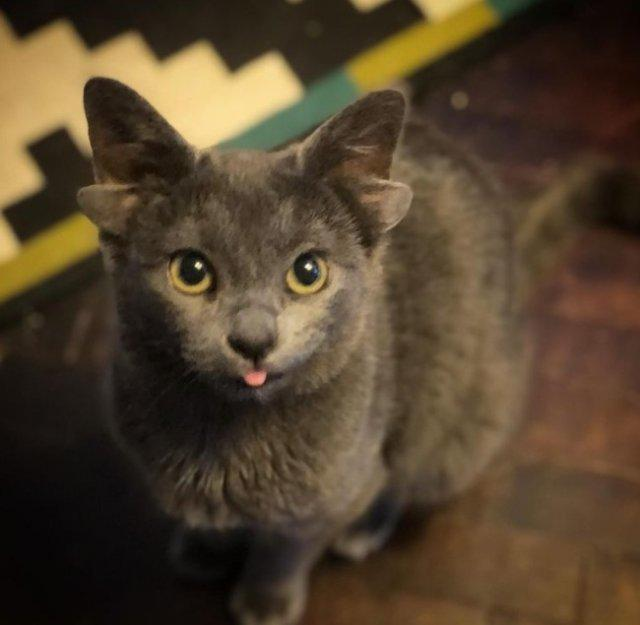cats: (46, 53, 555, 625)
